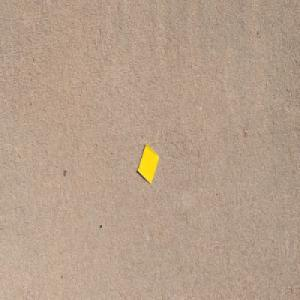PlasticPart: (137, 142, 159, 184)
